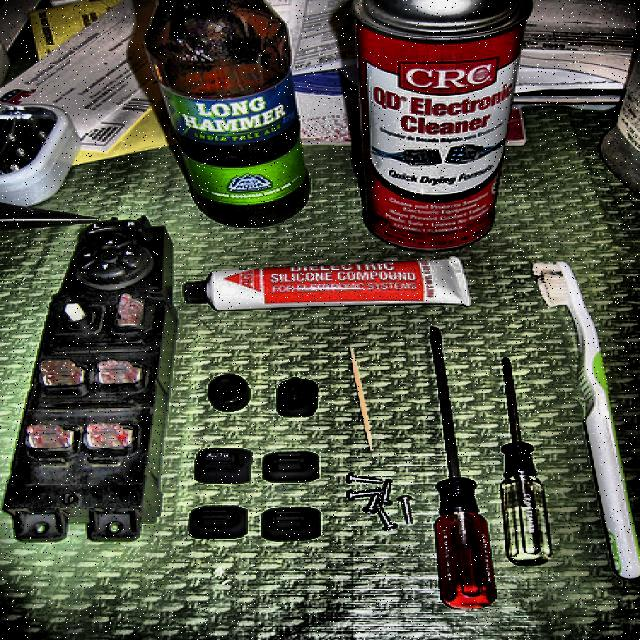screwdriver: (428, 328, 498, 610), (503, 358, 553, 566)
